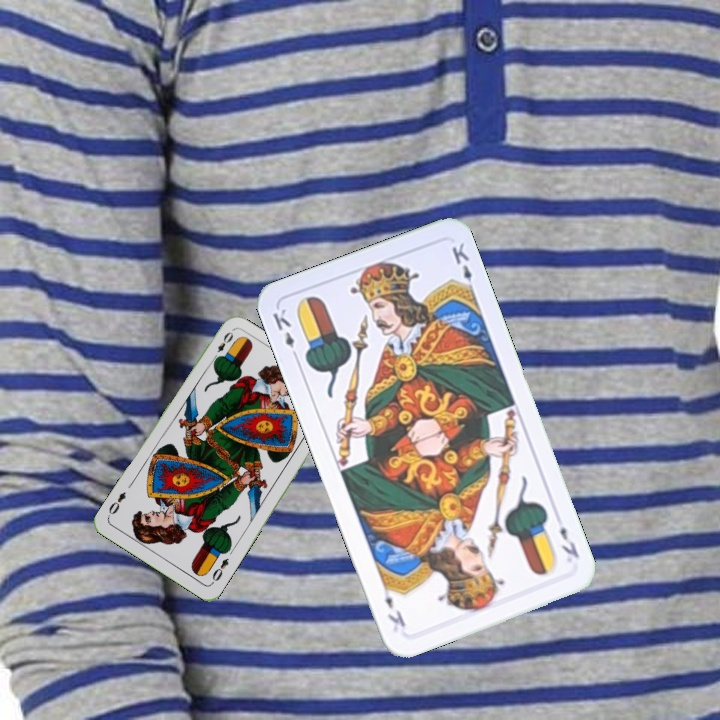EK: (268, 304, 302, 363), (556, 522, 582, 561)
EO: (208, 327, 236, 364), (207, 554, 231, 587)
